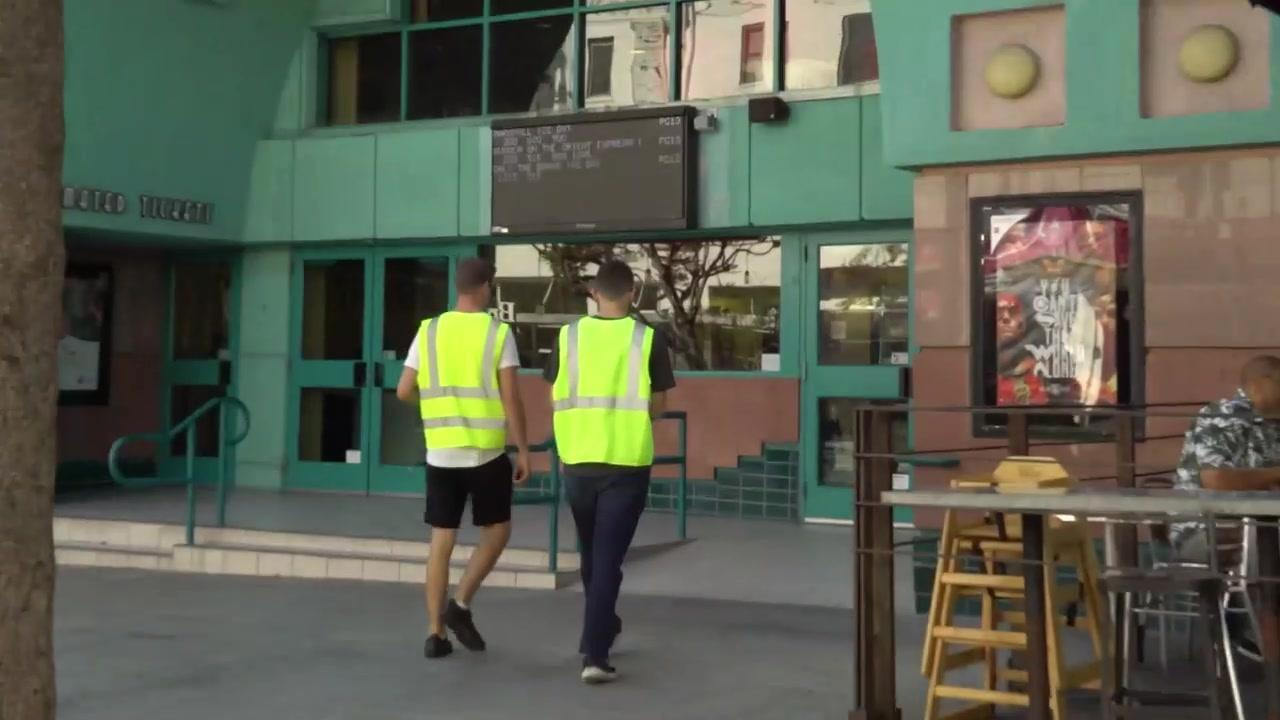vest: (549, 316, 657, 469), (418, 310, 507, 452)
